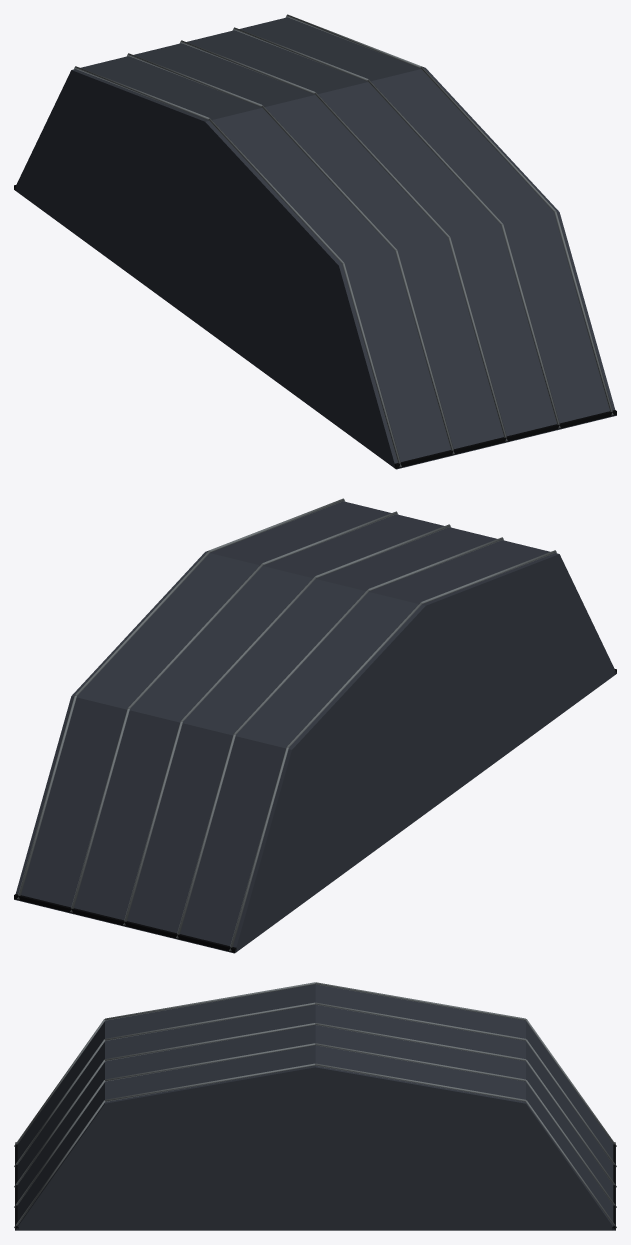
File: roof-mansard-2m.glb
The picture shows the model from 3 angles, top to bottom: view 1: azimuth 30°, elevation 25°; view 2: azimuth 150°, elevation 25°; view 3: azimuth 270°, elevation 25°; orthographic projection. The views are drawn at different scales.
Visible parts, largest first — view 1: roof-mansard-2m; view 2: roof-mansard-2m; view 3: roof-mansard-2m.
Part boxes in pixels (bbox=[...]): roof-mansard-2m: bbox=[14, 14, 616, 469]; roof-mansard-2m: bbox=[14, 498, 616, 953]; roof-mansard-2m: bbox=[14, 982, 616, 1230].
Size of the model in its own units: 2 by 1.82 by 6.02.
1 material, 1 textured.
